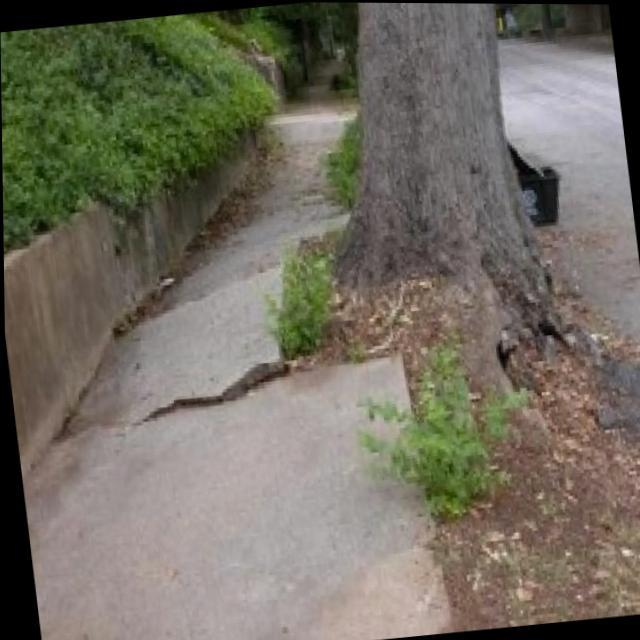hole: (125, 345, 323, 438)
